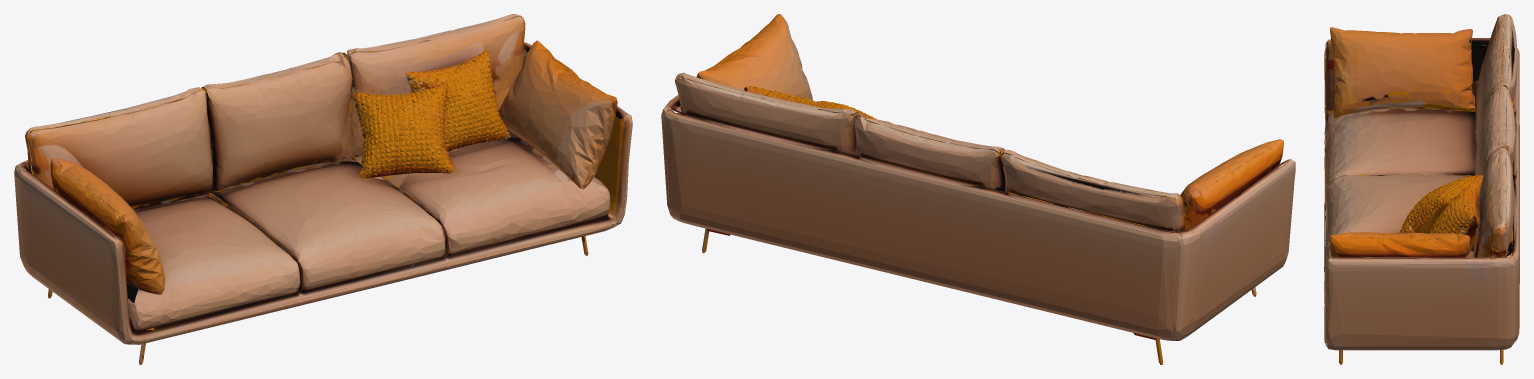
Rendered from edited_mesh.glb.
3 renders of one model, left to right at view 1: azimuth 30°, elevation 25°; view 2: azimuth 150°, elevation 25°; view 3: azimuth 270°, elevation 25°, orthographic. The views are drawn at different scales.
Visible parts, largest first — view 1: solid_001_wire; view 2: solid_001_wire; view 3: solid_001_wire.
Part boxes in pixels (x1,y1,x2,y2): solid_001_wire: (14, 14, 632, 364); solid_001_wire: (661, 14, 1295, 364); solid_001_wire: (1324, 14, 1519, 364).
Bounding box in the file's own units: 2 × 0.6387 × 0.7369.
Materials: 1 (1 with a texture image).
